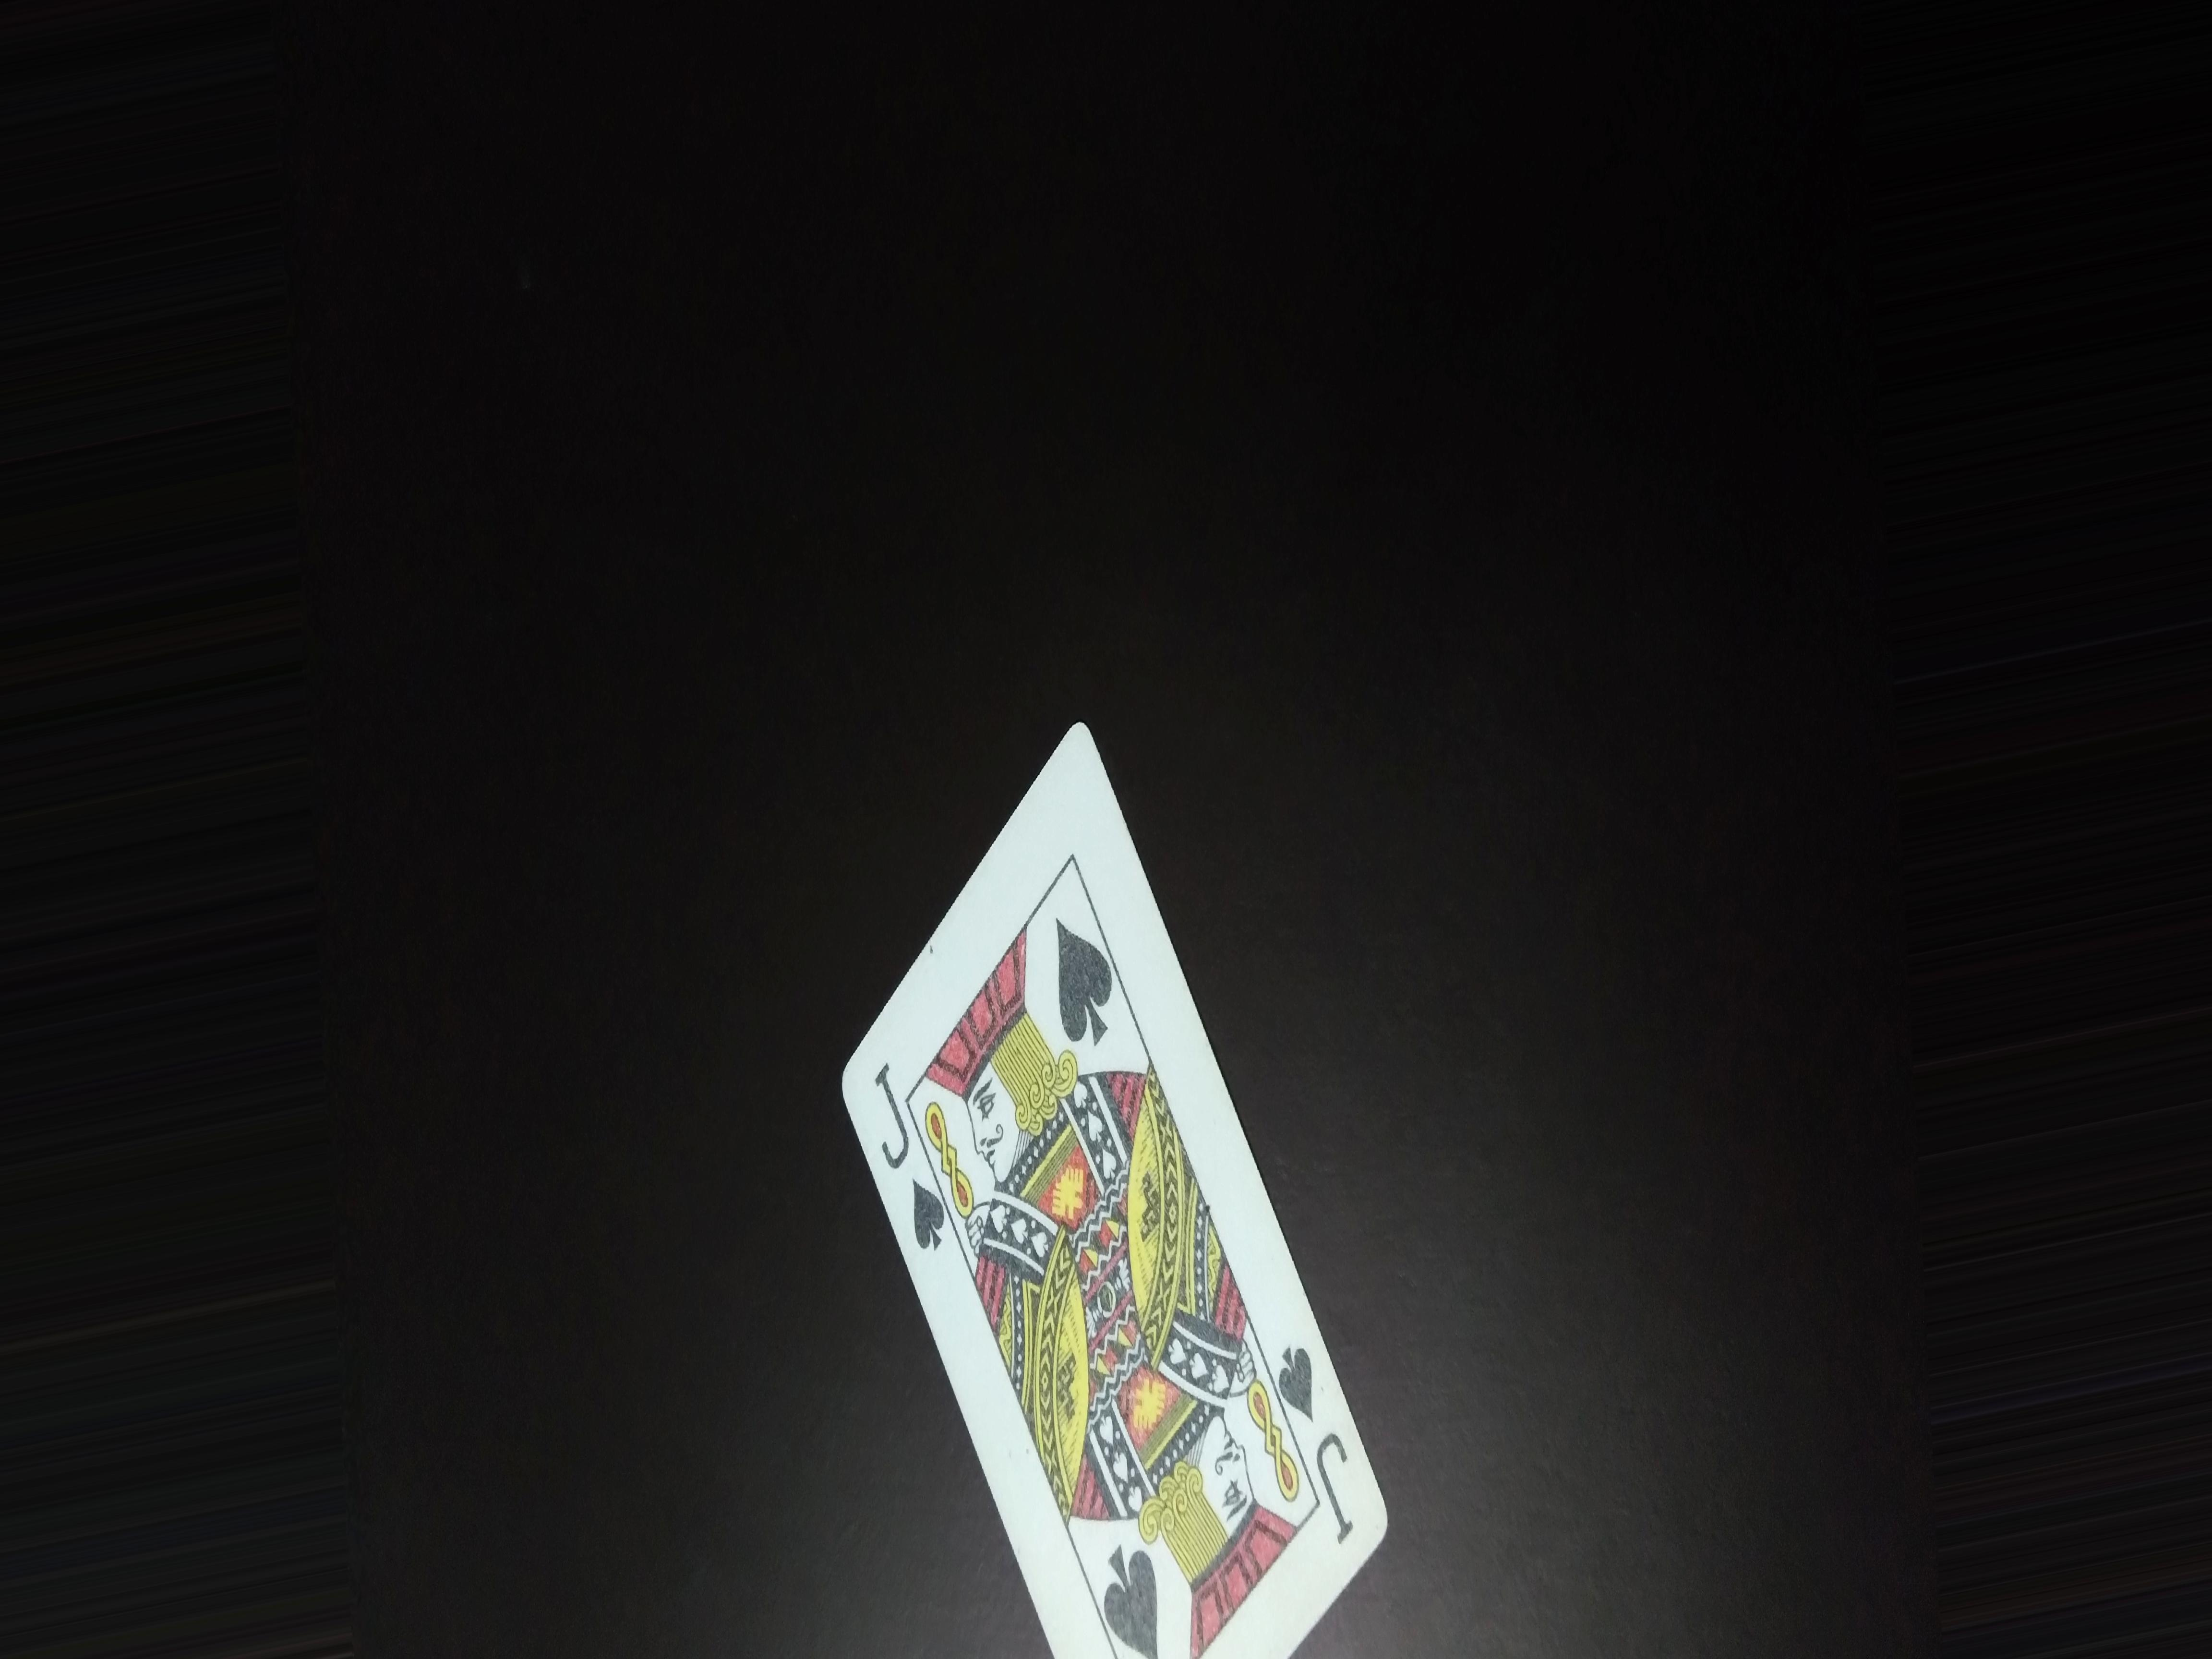JS: (841, 1063, 949, 1260)
